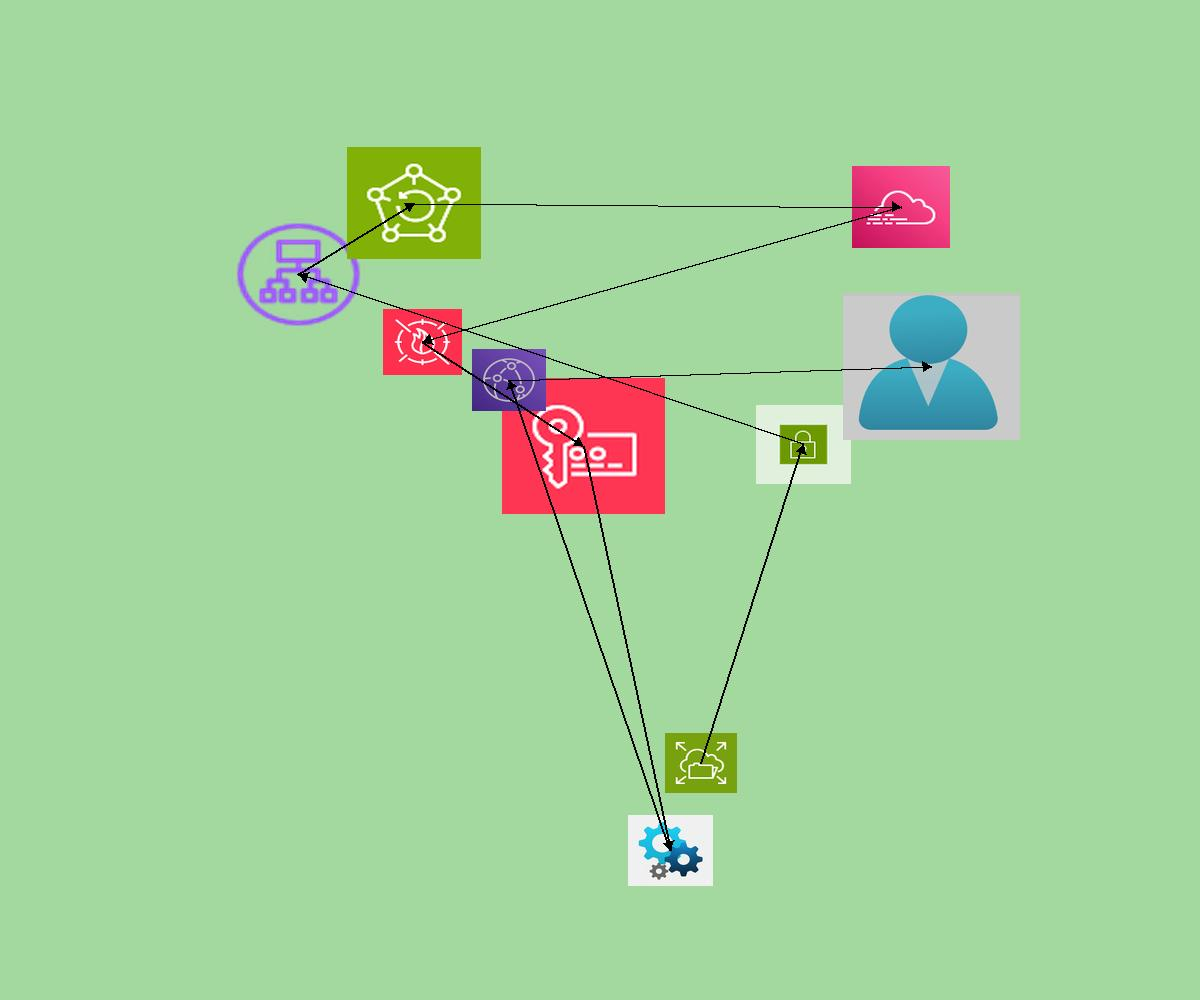AWS-Backup: (347, 147, 481, 259)
AWS-CloudFront: (472, 349, 546, 411)
AWS-CloudTrail: (852, 166, 950, 248)
AWS-EFS: (665, 733, 737, 793)
AWS-Key-Management-Service: (502, 378, 665, 514)
AWS-Public-subnet: (756, 405, 851, 484)
AWS-Res_Elastic-Load-Balancing_Application-Load-Balancer: (232, 219, 365, 330)
AWS-WAF: (383, 309, 462, 375)
Azure_api: (628, 815, 713, 886)
Azure_users: (843, 293, 1020, 440)
